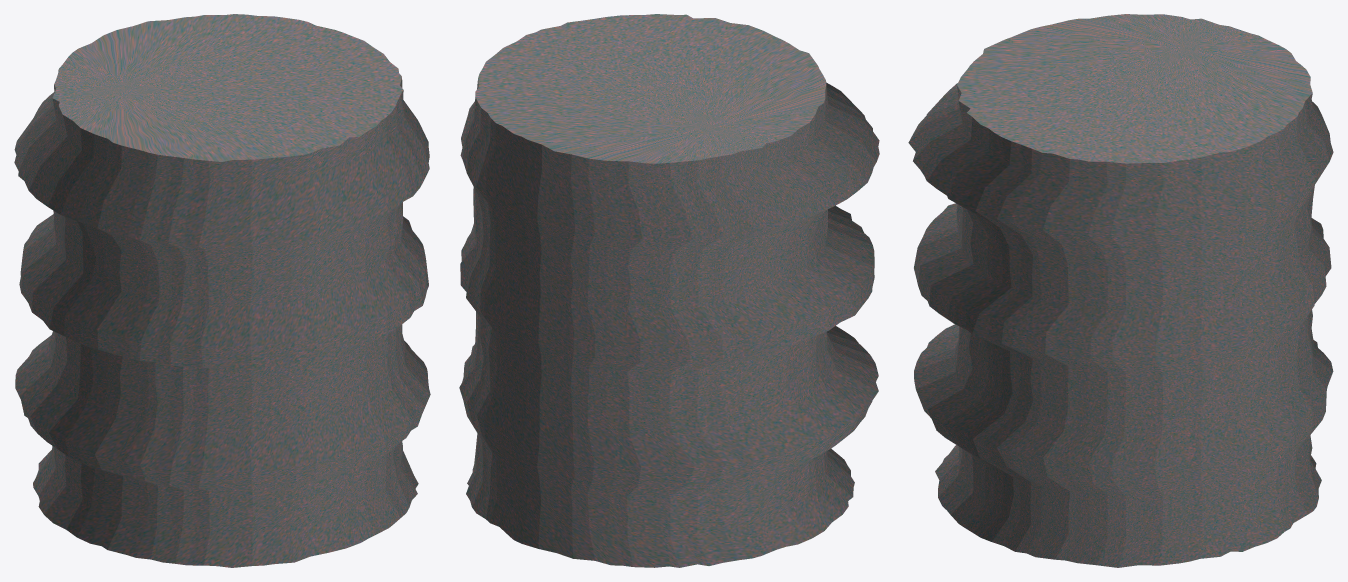
File: barrel_1.dae
The picture shows the model from 3 angles, left to right: view 1: azimuth 30°, elevation 25°; view 2: azimuth 150°, elevation 25°; view 3: azimuth 270°, elevation 25°; orthographic projection.
Visible parts, largest first — view 1: Cylinder; view 2: Cylinder; view 3: Cylinder.
Part boxes in pixels (box(x1,y1,x2,y2)): Cylinder: box(14, 14, 430, 567); Cylinder: box(459, 14, 879, 567); Cylinder: box(908, 14, 1333, 567).
Bounding box in the file's own units: 0.9617 × 0.9667 × 1.
Materials: 1 (1 with a texture image).
